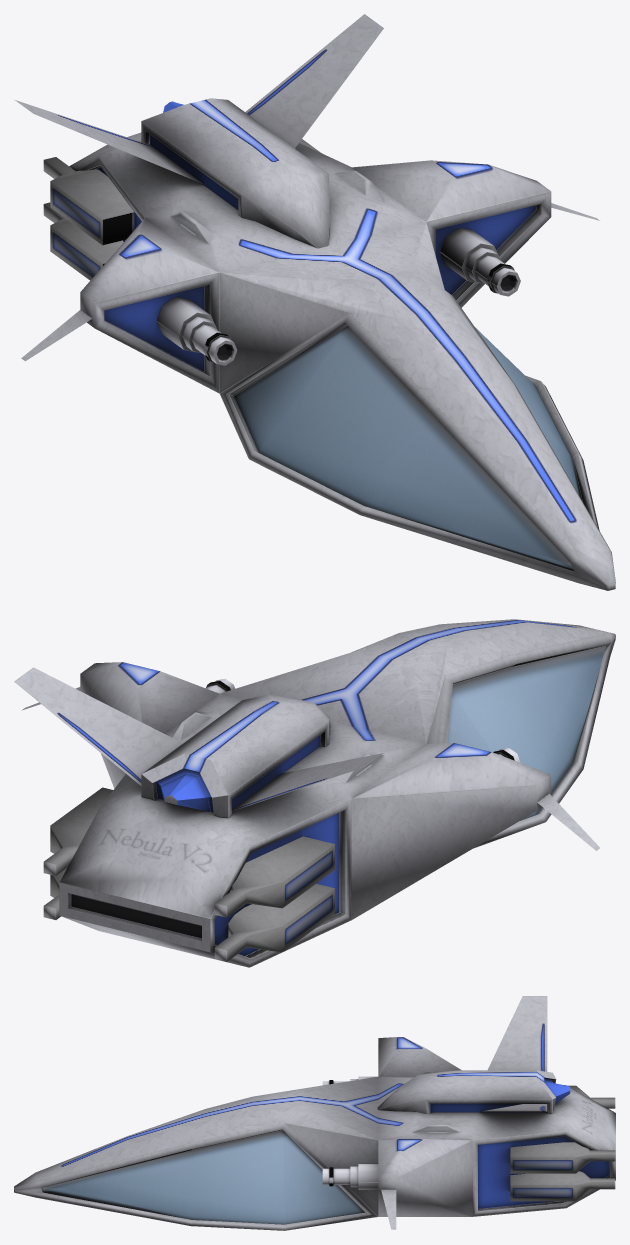
Rendered from Main_Char.FBX.
3 views of the same model, one above another, from view 1: azimuth 30°, elevation 25°; view 2: azimuth 150°, elevation 25°; view 3: azimuth 270°, elevation 25° (orthographic). The views are drawn at different scales.
Visible parts, largest first — view 1: Ship01; view 2: Ship01; view 3: Ship01.
Boxes of the visible parts, x1,y1,x2,y2 form: Ship01: [15, 14, 615, 590]; Ship01: [14, 619, 615, 967]; Ship01: [14, 996, 615, 1230].
Size of the model in its own units: 65.04 by 24.44 by 93.4.
Materials: 1 (1 with a texture image).
